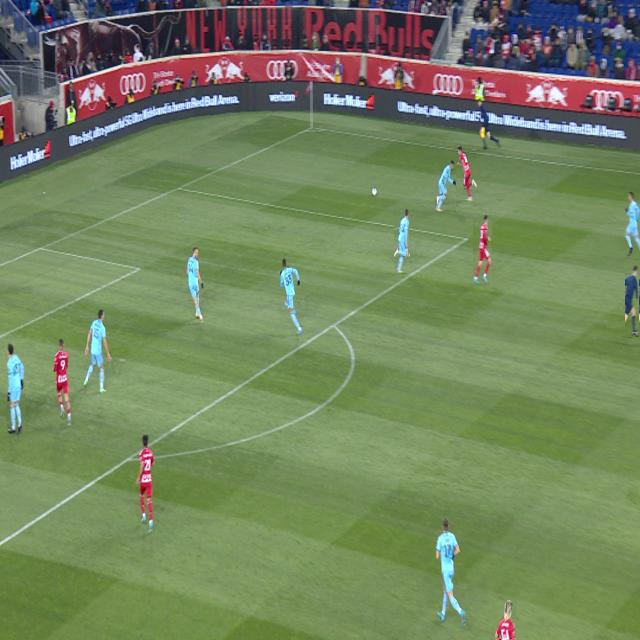football: (372, 187, 377, 197)
player: (436, 517, 466, 627), (83, 310, 112, 394), (136, 435, 155, 534), (280, 258, 303, 334), (53, 339, 72, 427), (7, 343, 25, 435), (186, 247, 204, 323), (473, 215, 492, 284), (457, 146, 477, 202), (436, 161, 456, 212), (625, 191, 640, 256), (395, 209, 409, 273), (495, 601, 516, 639)
referee: (626, 265, 639, 337)
